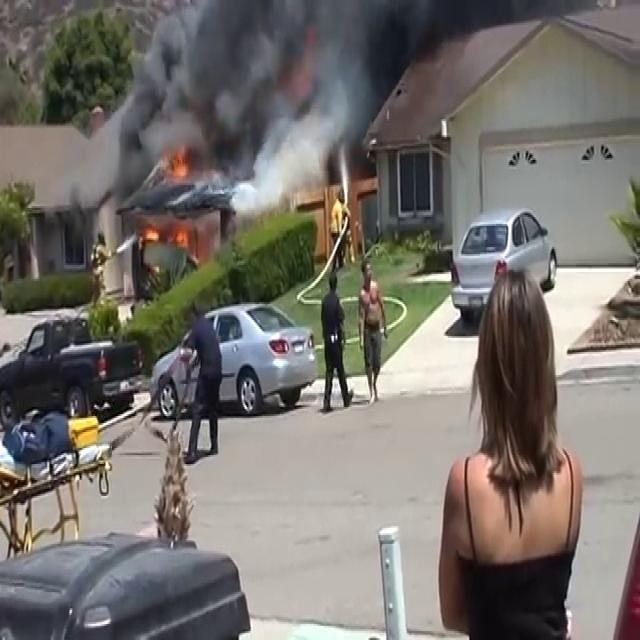Smoke: (91, 0, 422, 196)
